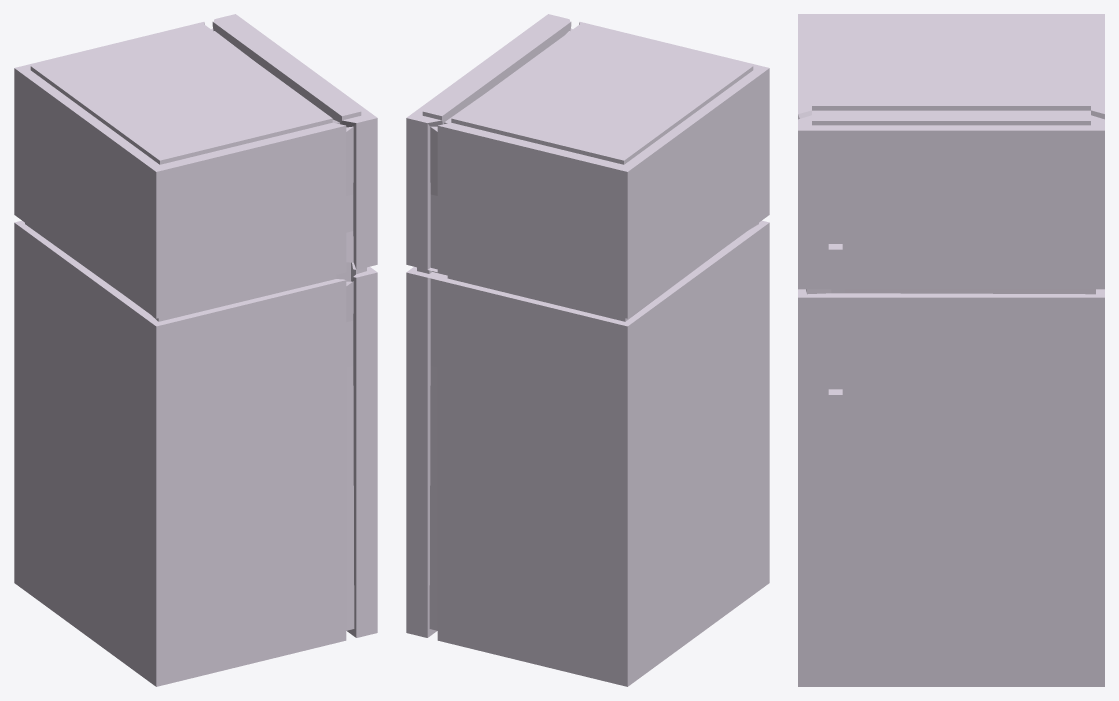
Rendered from Fridge.glb.
The picture shows the model from 3 angles, left to right: view 1: azimuth 30°, elevation 25°; view 2: azimuth 150°, elevation 25°; view 3: azimuth 270°, elevation 25°; orthographic projection. The views are drawn at different scales.
Parts seen in each view (by area): view 1: Cube; view 2: Cube; view 3: Cube.
Boxes of the visible parts, <box> form: Cube: <box>14,14,377,686</box>; Cube: <box>406,14,769,686</box>; Cube: <box>798,14,1104,686</box>.
Size of the model in its own units: 0.9 by 2.02 by 1.
Materials: 1 (1 with a texture image).
